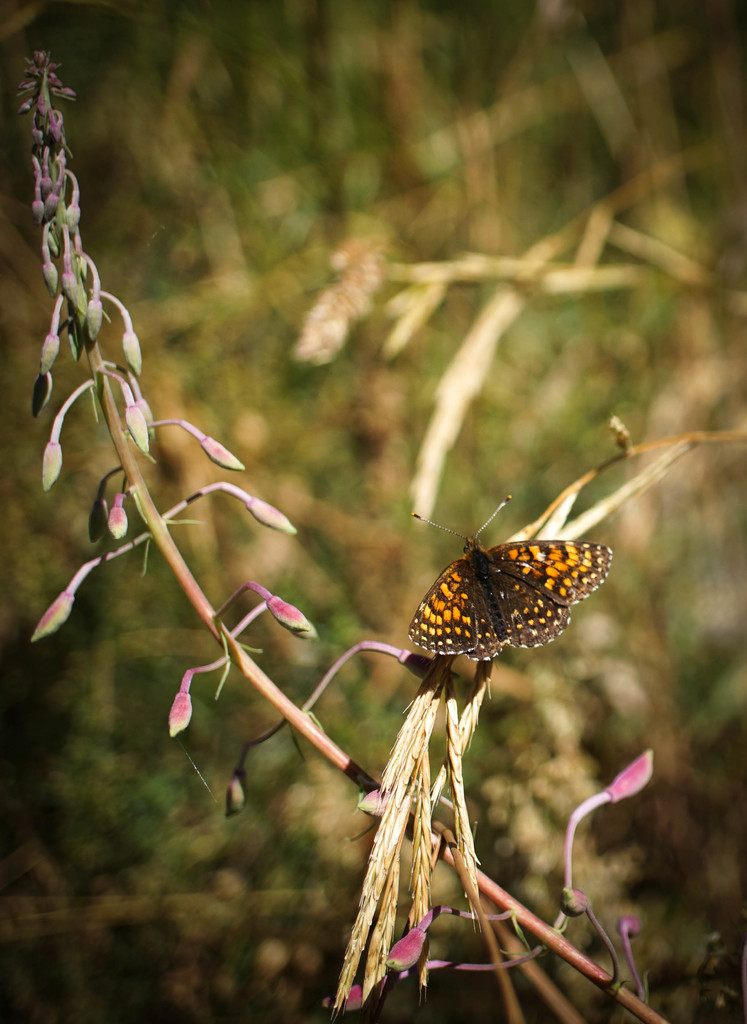Butterfly: (402, 494, 615, 666)
